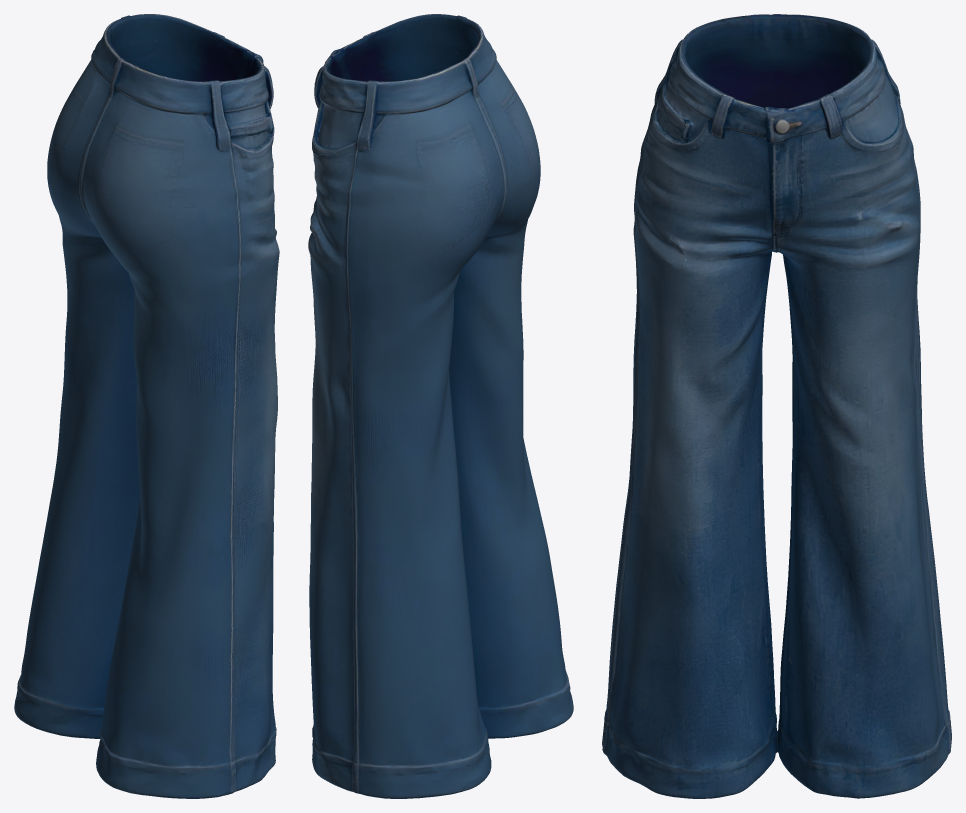
File: campana.glb
3 views of the same model, side by side, from view 1: azimuth 30°, elevation 25°; view 2: azimuth 150°, elevation 25°; view 3: azimuth 270°, elevation 25° (orthographic). The views are drawn at different scales.
Parts seen in each view (by area): view 1: tripo_node_ec5aad06-22dd-4404-ba22-8674b41216cf; view 2: tripo_node_ec5aad06-22dd-4404-ba22-8674b41216cf; view 3: tripo_node_ec5aad06-22dd-4404-ba22-8674b41216cf.
Part boxes in pixels (left/top/right/bottom): tripo_node_ec5aad06-22dd-4404-ba22-8674b41216cf: left=14, top=14, right=279, bottom=798; tripo_node_ec5aad06-22dd-4404-ba22-8674b41216cf: left=308, top=14, right=573, bottom=798; tripo_node_ec5aad06-22dd-4404-ba22-8674b41216cf: left=602, top=14, right=951, bottom=798.
Bounding box in the file's own units: 0.2989 × 1 × 0.4334.
1 material, 1 textured.
